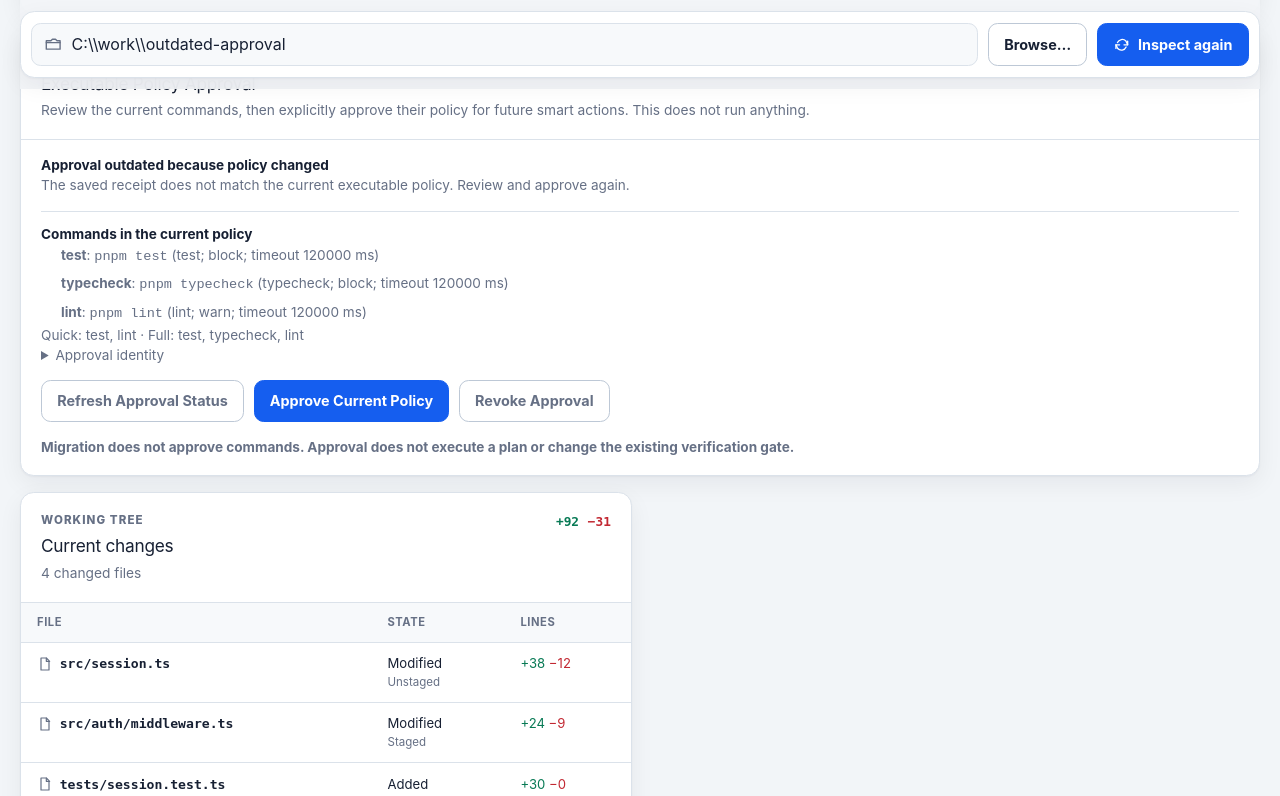
desktop dashboard › shows outdated approval and requires explicit reapproval
The width and height of the screenshot is (1280, 796).
(page scrolled)
Expected: the text "Approval outdated because policy changed" is shown, [41,156,329,172]
Expected: the element "Executable Policy Approval" shows "Review and approve again.", [41,177,630,193]
Click the button "Approve Current Policy".
click(351, 401)  # box [254,380,449,422]
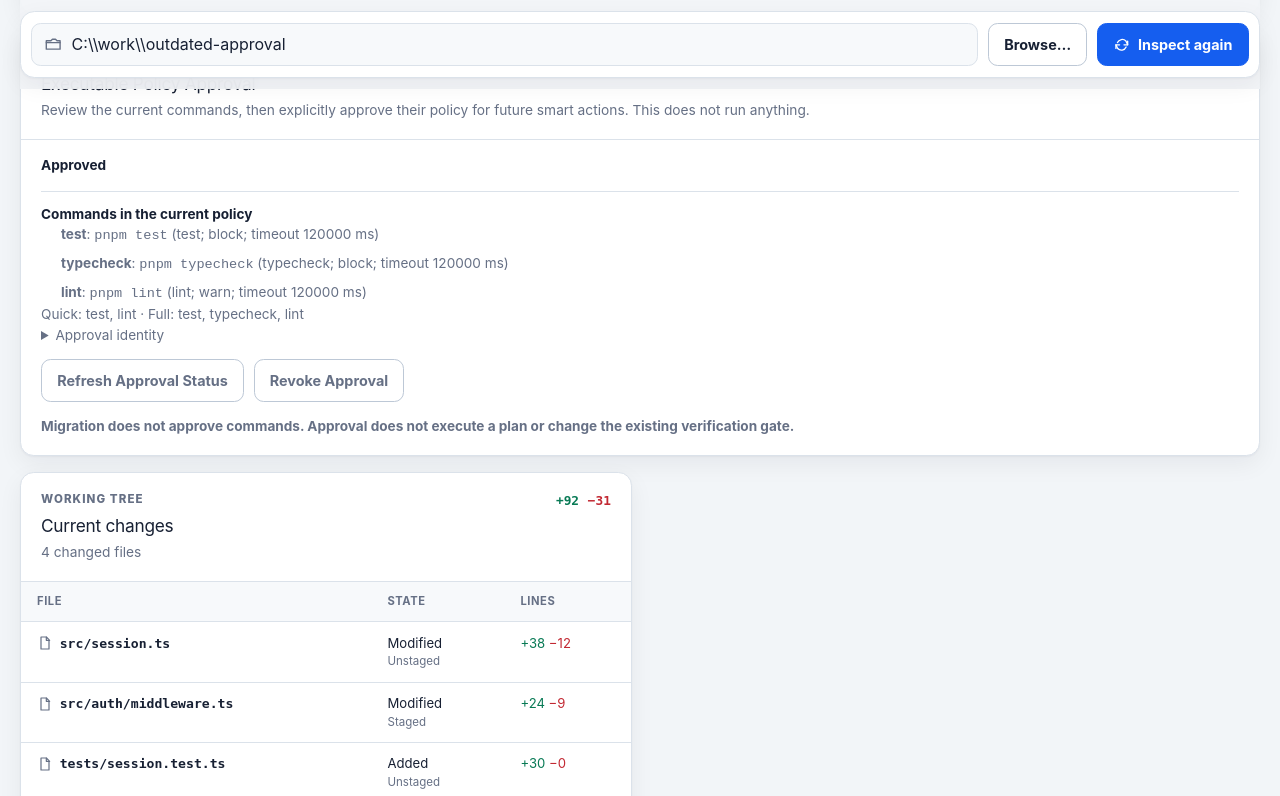
Result: the text "Approved" is shown at [41,156,106,172]
